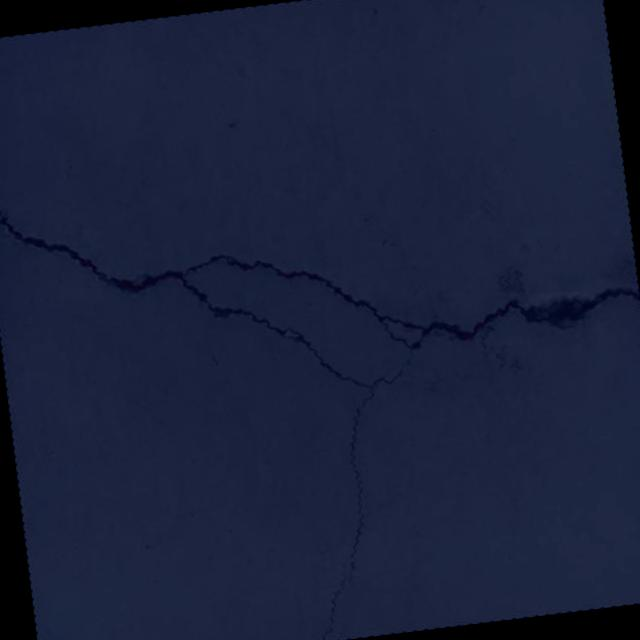crack: (0, 123, 640, 626), (311, 557, 358, 640)
